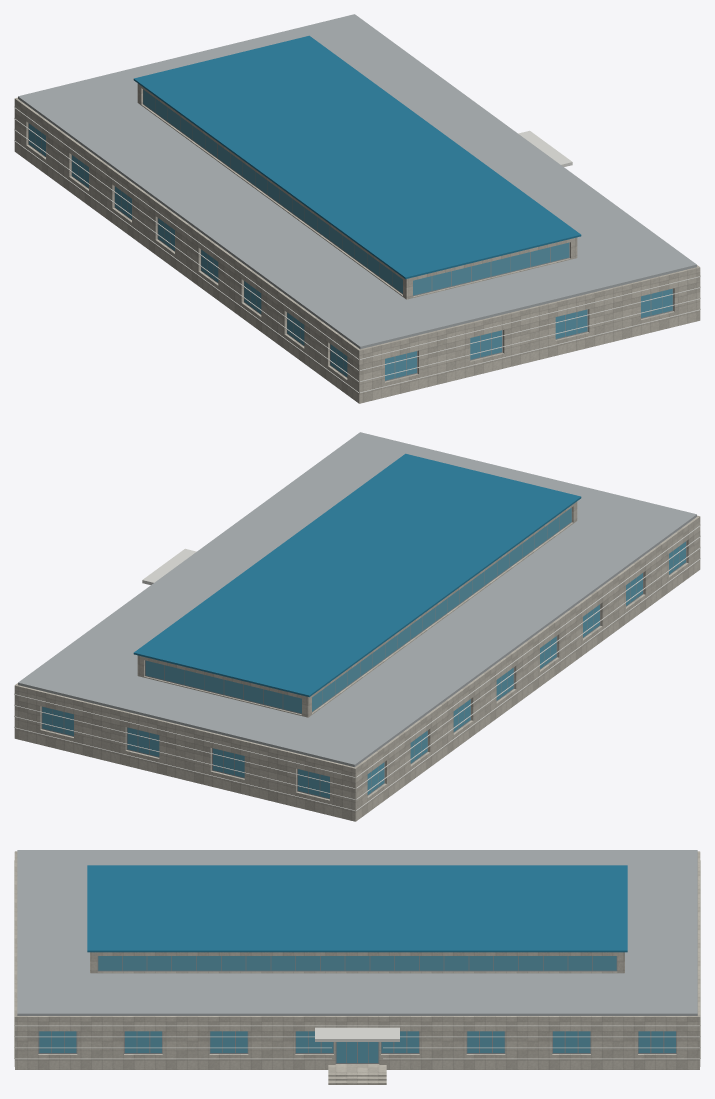
3 renders of one model, top to bottom at view 1: azimuth 30°, elevation 25°; view 2: azimuth 150°, elevation 25°; view 3: azimuth 270°, elevation 25°, orthographic.
Parts seen in each view (by area): view 1: b107__roof, b107__blue, unist-batch-b107__stair-main, b107__glass, b107__trim, b107__frame; view 2: b107__roof, b107__blue, unist-batch-b107__stair-main, b107__glass, b107__trim, b107__frame; view 3: b107__roof, b107__blue, unist-batch-b107__stair-main, b107__glass, b107__trim, b107__frame, b107__threshold-main.
Part boxes in pixels (box(x1,y1,x2,y2)): b107__roof: box(18, 14, 696, 349); b107__blue: box(133, 35, 581, 279); unist-batch-b107__stair-main: box(14, 83, 700, 403); b107__glass: box(29, 90, 672, 380); b107__trim: box(14, 107, 700, 392); b107__frame: box(28, 89, 673, 381); b107__roof: box(18, 432, 696, 767); b107__blue: box(133, 453, 581, 697); unist-batch-b107__stair-main: box(14, 501, 700, 821); b107__glass: box(42, 508, 685, 798); b107__trim: box(14, 525, 700, 810); b107__frame: box(41, 507, 686, 799); b107__roof: box(17, 850, 697, 1015); b107__blue: box(87, 865, 627, 952); unist-batch-b107__stair-main: box(14, 851, 700, 1084); b107__glass: box(39, 956, 675, 1062); b107__trim: box(14, 860, 700, 1059); b107__frame: box(38, 956, 676, 1063); b107__threshold-main: box(328, 1065, 386, 1072).
Bounding box in the file's own units: 35.12 × 7.2 × 56.5.
7 materials, 2 textured.
